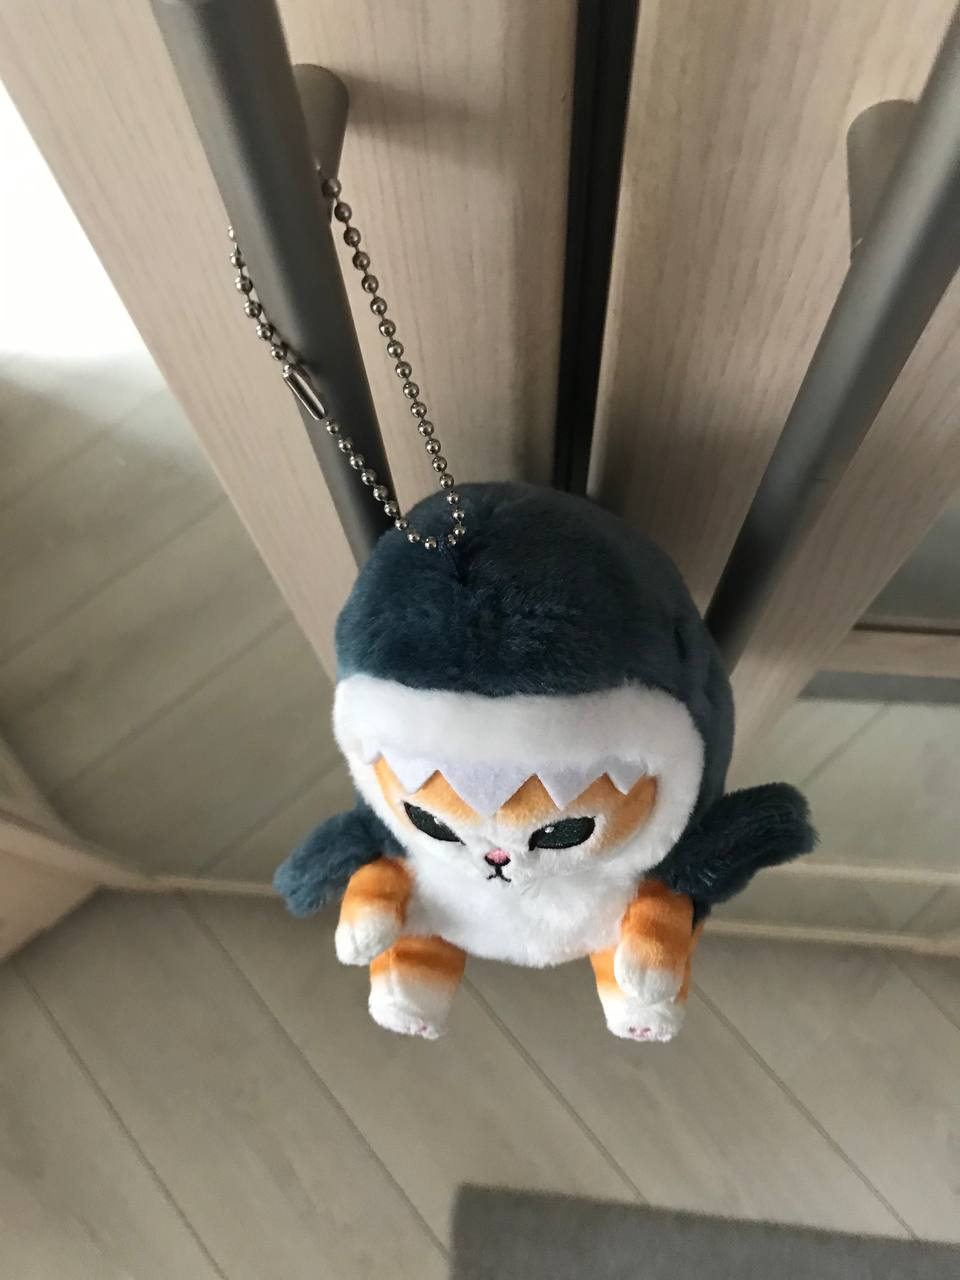cat_shark: (270, 476, 820, 1047)
